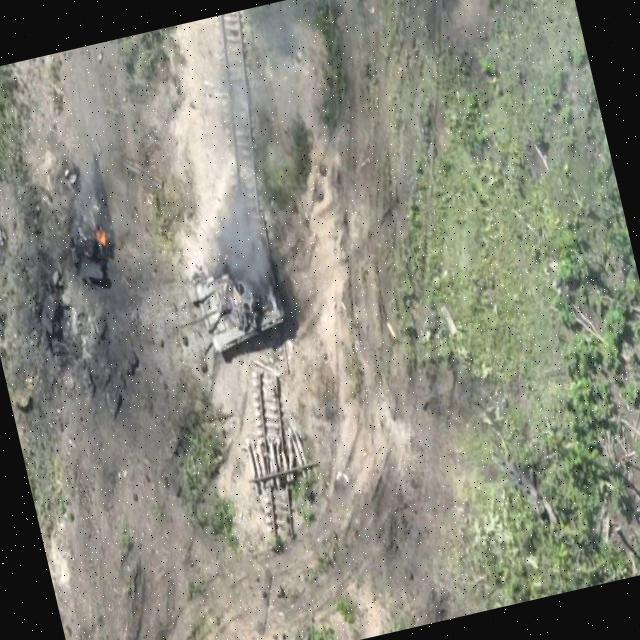MBT: (169, 259, 293, 364)
